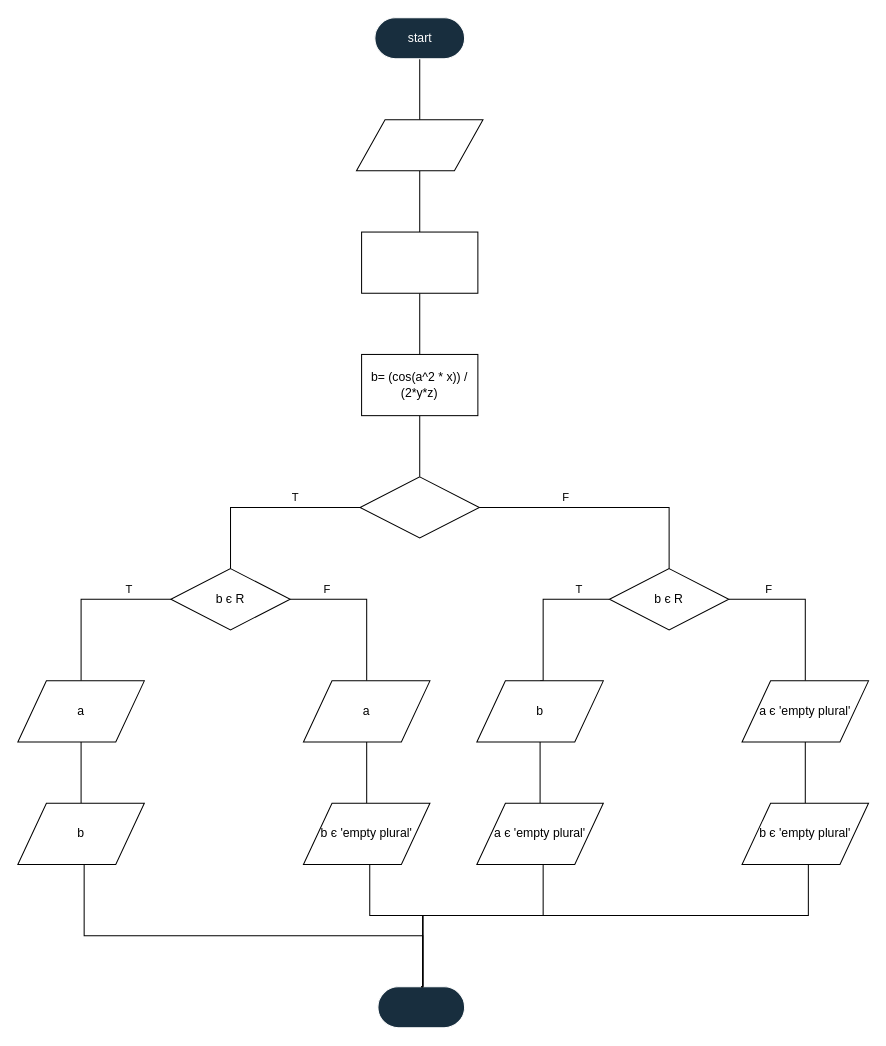
The diagram is 886 pixels wide and 1046 high, and some of its shapes have lost their labels. Here are the shapes that lost their labels. From the top down, the centre of each, then its label:
the point at 419,145: x, y, z є R
the point at 419,262: a = 1/(2*sin(PI + x)) + (sin((x + y) / z))^2
the point at 419,507: a є R
the point at 421,1007: end
